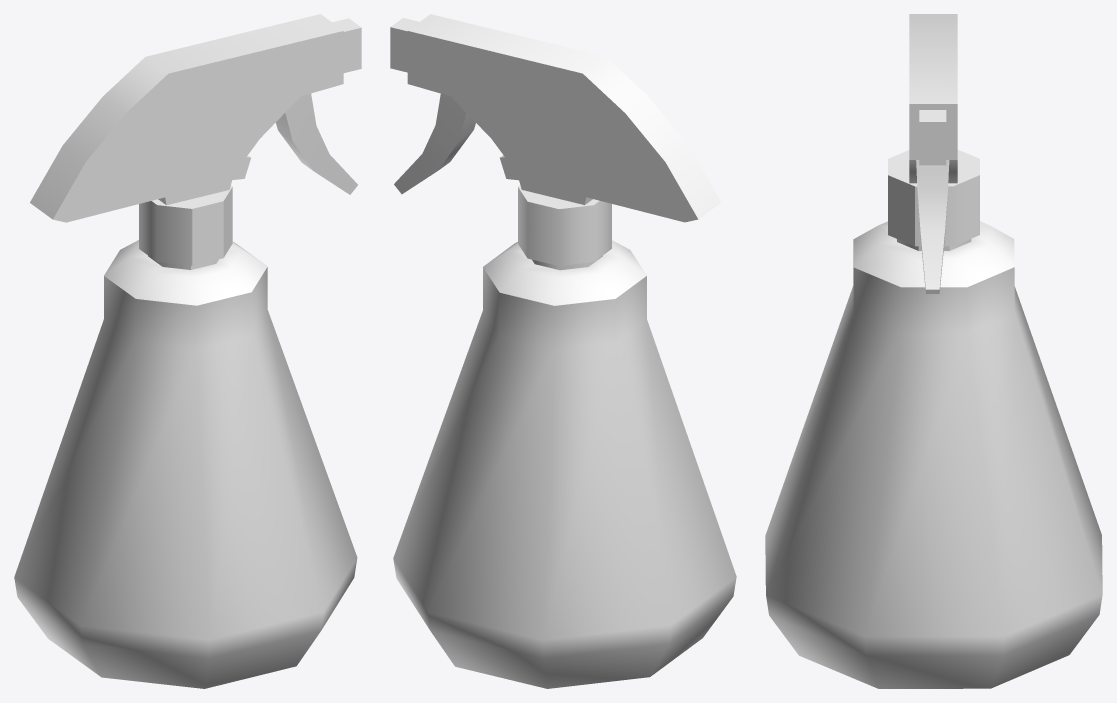
The model's file is item2.fbx.
3 views of the same model, side by side, from view 1: azimuth 30°, elevation 25°; view 2: azimuth 150°, elevation 25°; view 3: azimuth 270°, elevation 25° (orthographic). The views are drawn at different scales.
Parts seen in each view (by area): view 1: Cylinder011; view 2: Cylinder011; view 3: Cylinder011.
Part boxes in pixels (x1=…): Cylinder011: x1=14, y1=14, x2=361, y2=688; Cylinder011: x1=390, y1=14, x2=736, y2=688; Cylinder011: x1=765, y1=14, x2=1102, y2=688.
Size of the model in its own units: 43 by 75.01 by 38.06.
